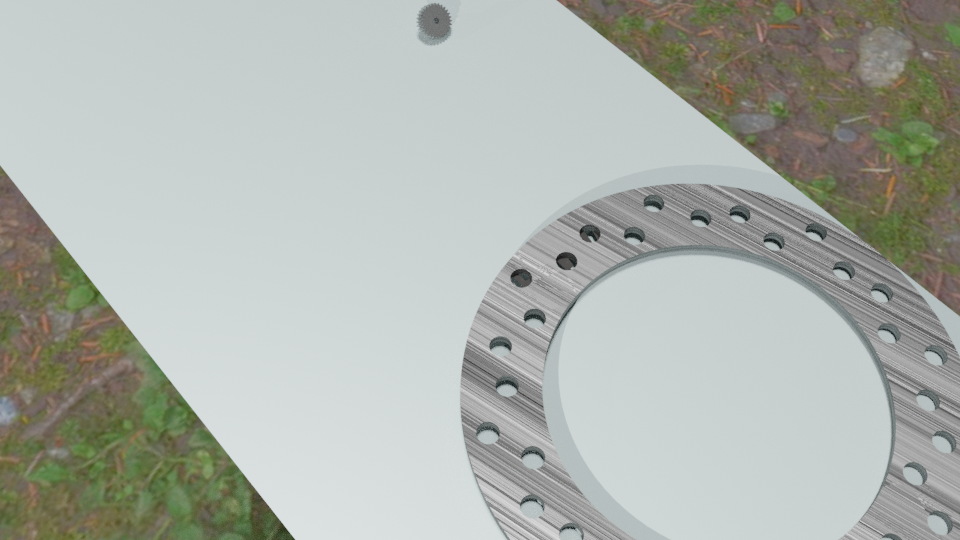yamaha_letters: (435, 28, 601, 288)
